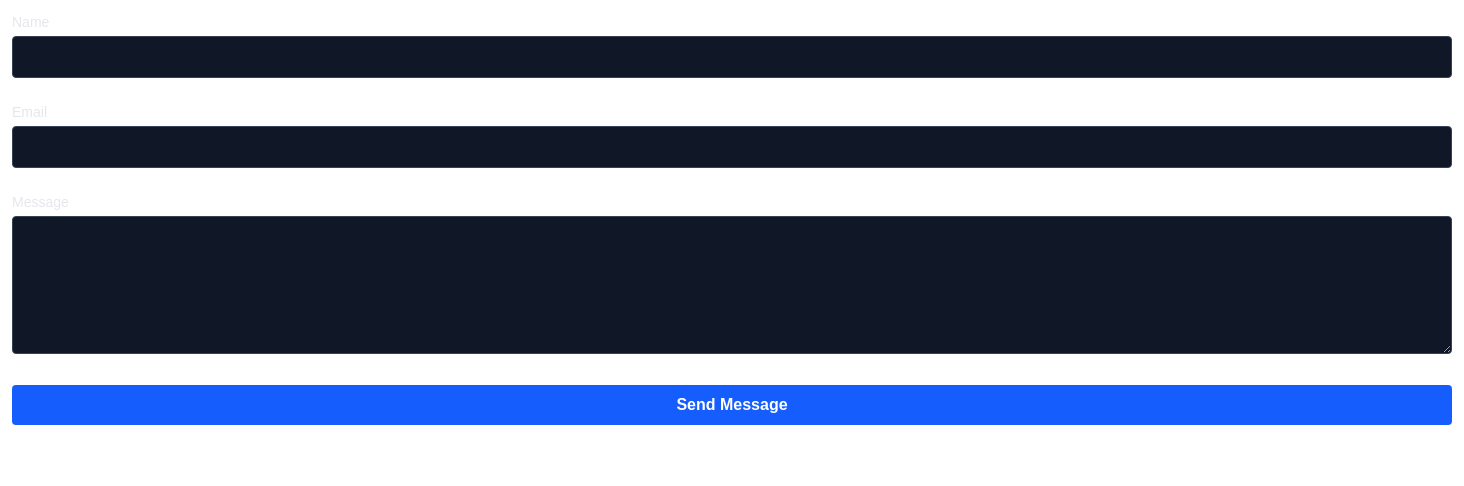
Scenario: ContactForm › shows validation error when submitting empty form
Click the button "Send Message". click: (732, 405)
box: [12,385,1452,425]
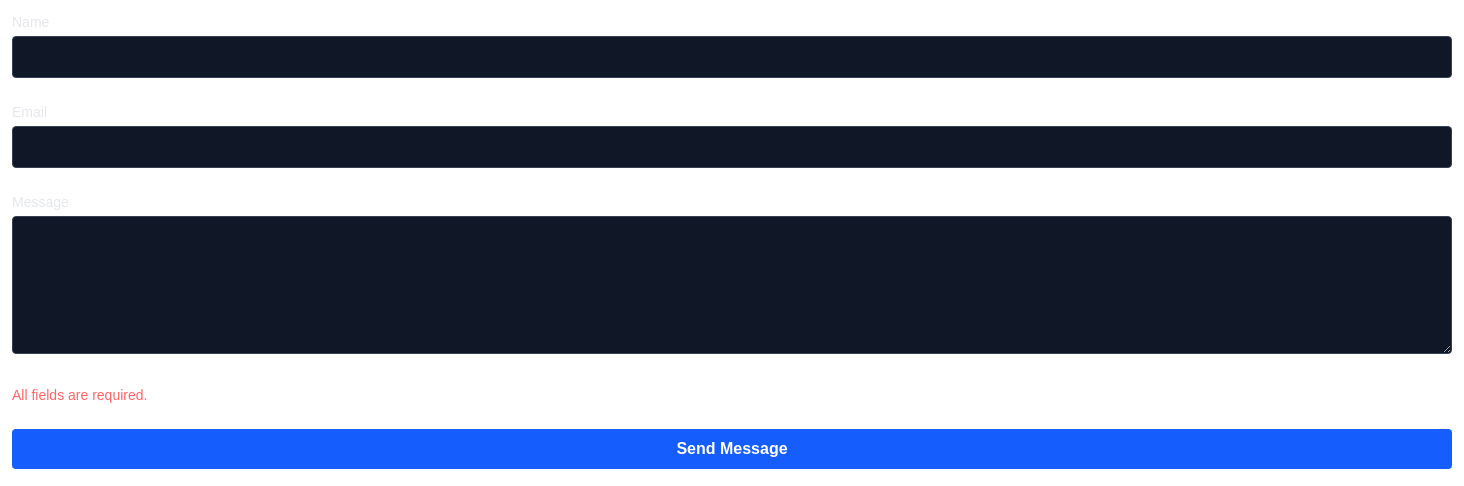
Expected: the text "All fields are required." is shown, [12,387,147,403]
